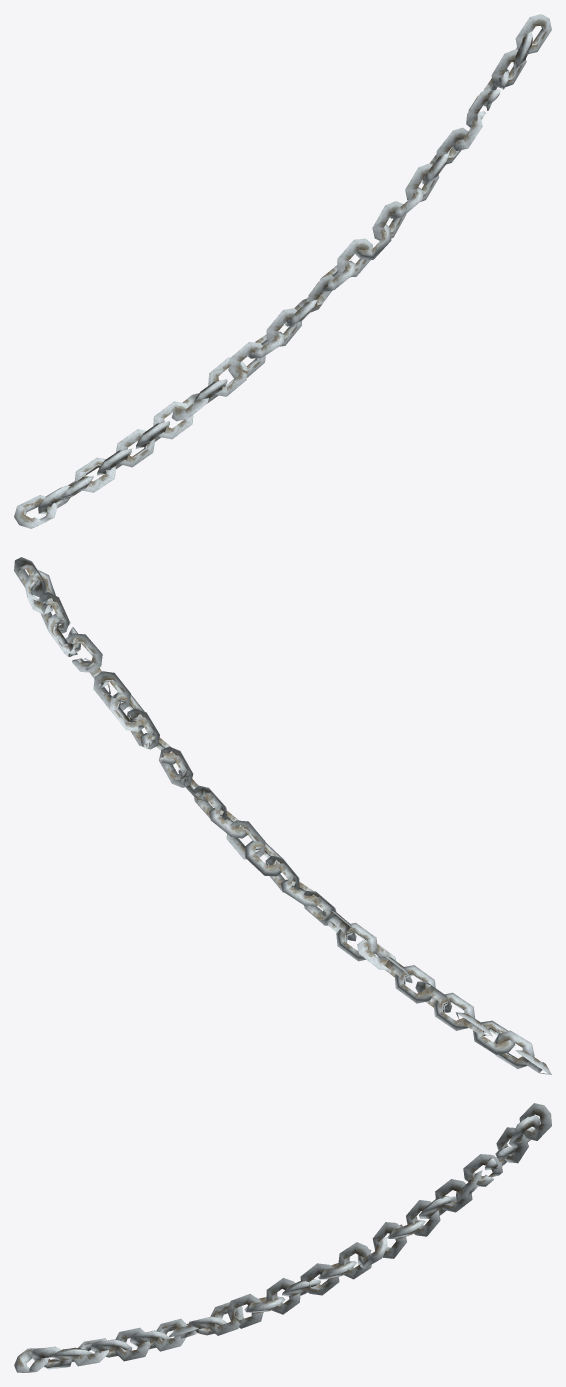
File: S_Build_Snowland234_1.FBX
3 renders of one model, top to bottom at view 1: azimuth 30°, elevation 25°; view 2: azimuth 150°, elevation 25°; view 3: azimuth 330°, elevation 25°, orthographic.
Parts seen in each view (by area): view 1: S_Build_Snowland234_1; view 2: S_Build_Snowland234_1; view 3: S_Build_Snowland234_1.
Part boxes in pixels (box(x1,y1,x2,y2)): S_Build_Snowland234_1: box(14, 14, 551, 528); S_Build_Snowland234_1: box(14, 557, 551, 1074); S_Build_Snowland234_1: box(14, 1103, 551, 1372).
Bounding box in the file's own units: 2650 × 144 × 1835.
